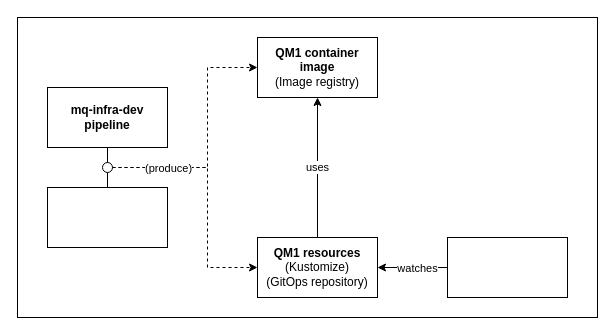
This 615x335 diagram has some shape labels left out. Here are the shapes that lost their labels. From the top down, the centre of each, then its label:
At (107,217): "QM1 Helm chart (source repository)".
At (507,267): "QM1 ArgoCD application".
